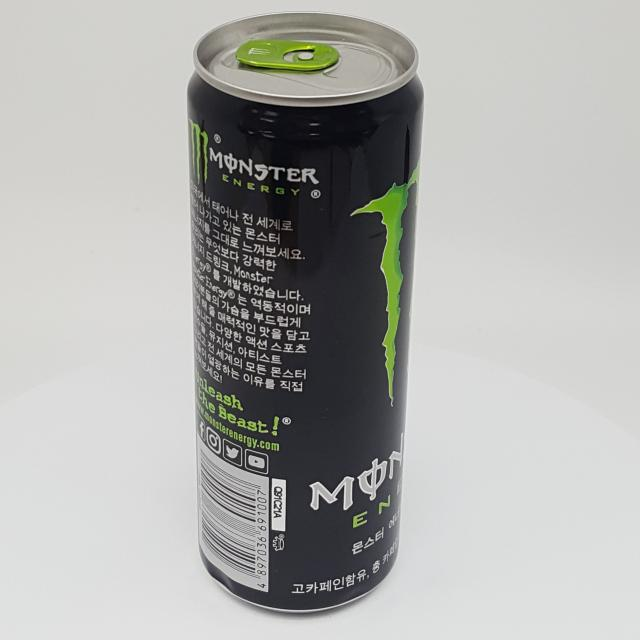--------355ML: (186, 11, 424, 614)
